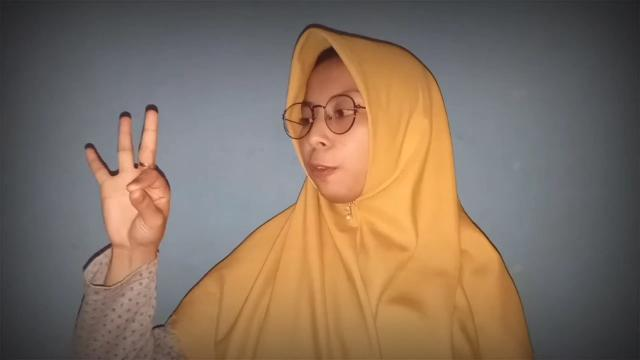F: (84, 104, 170, 256)
